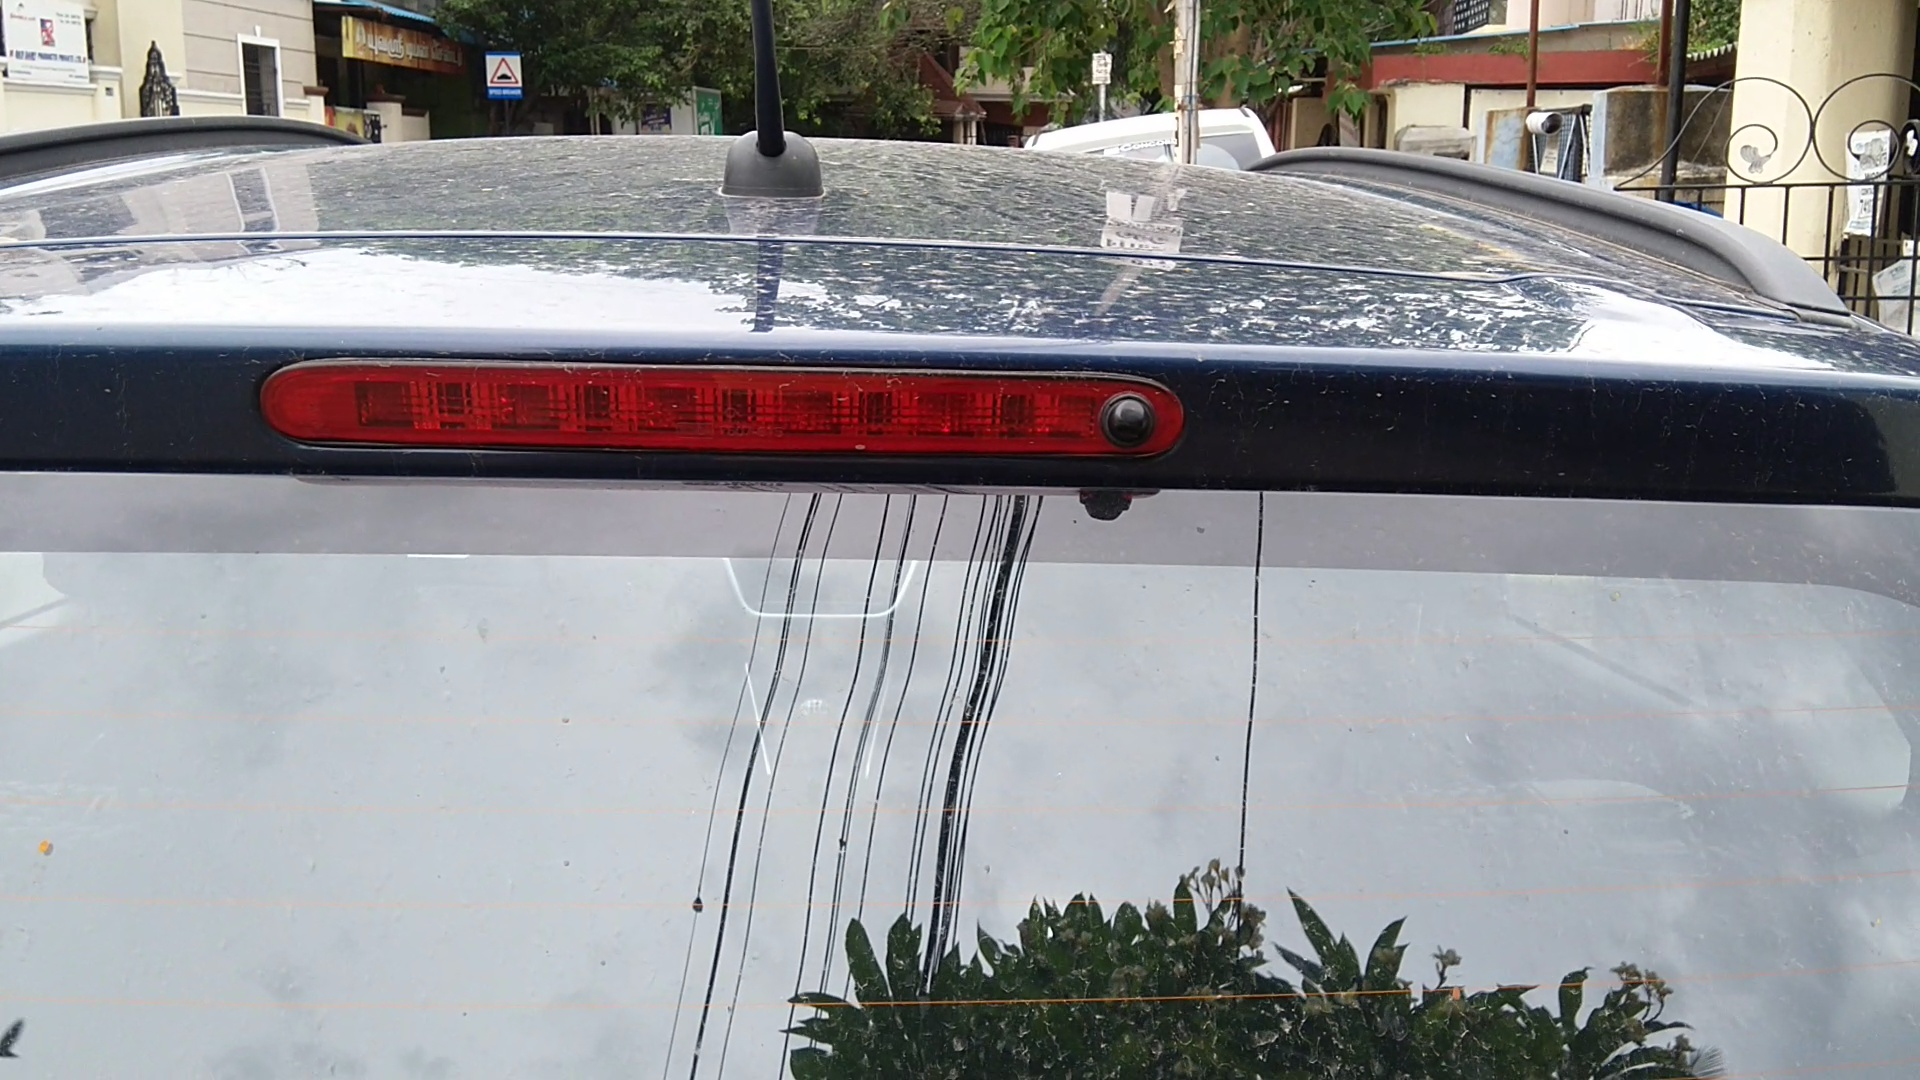rear_camera: (1088, 375, 1182, 463)
